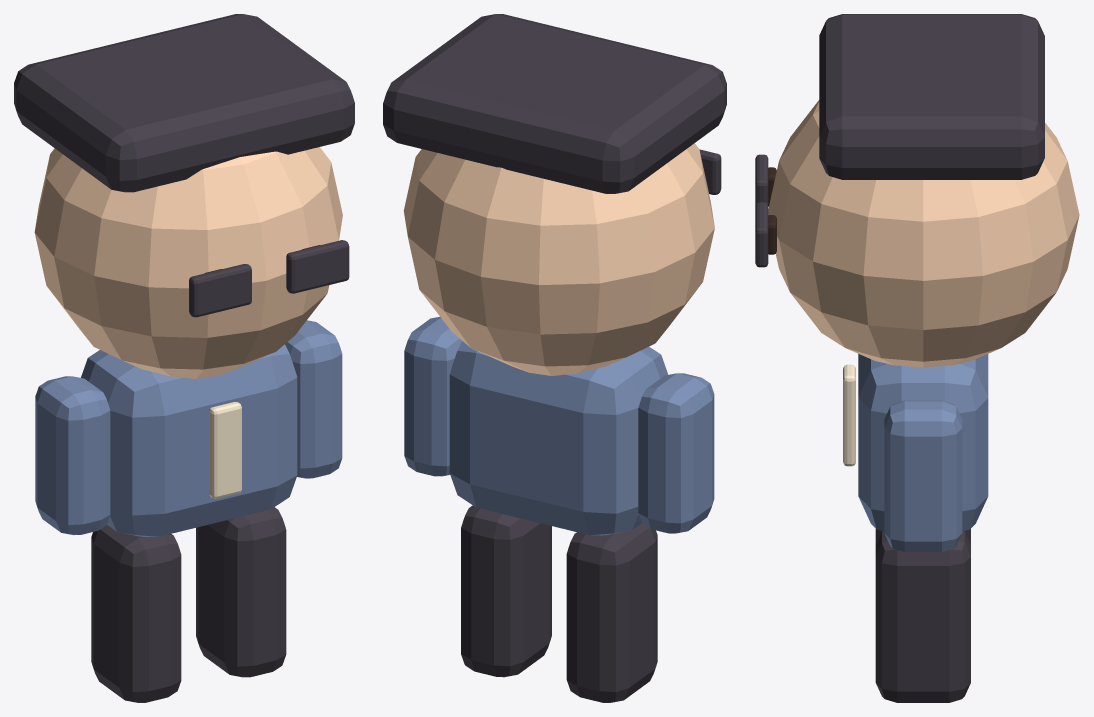
Rendered from kar_pakDosen.fbx.
The picture shows the model from 3 angles, left to right: view 1: azimuth 30°, elevation 25°; view 2: azimuth 150°, elevation 25°; view 3: azimuth 270°, elevation 25°; orthographic projection.
Parts seen in each view (by area): view 1: kar_pakDosen; view 2: kar_pakDosen; view 3: kar_pakDosen.
Part boxes in pixels (<box>): kar_pakDosen: <box>14,14,354,702</box>; kar_pakDosen: <box>383,14,726,702</box>; kar_pakDosen: <box>755,14,1079,702</box>.
Size of the model in its own units: 76 by 154 by 74.7.
1 material, 1 textured.
